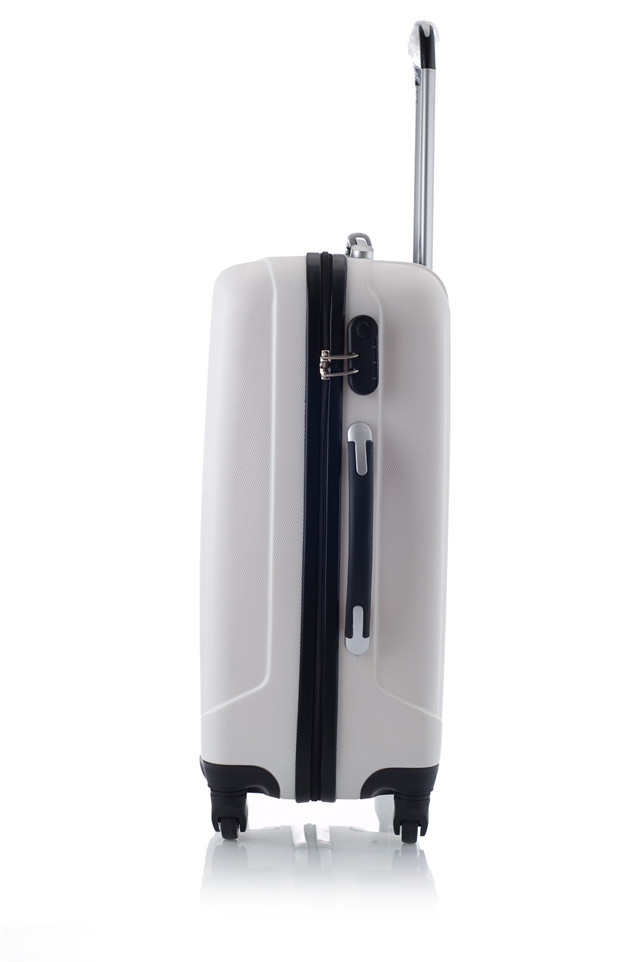luggage: (197, 19, 456, 844)
